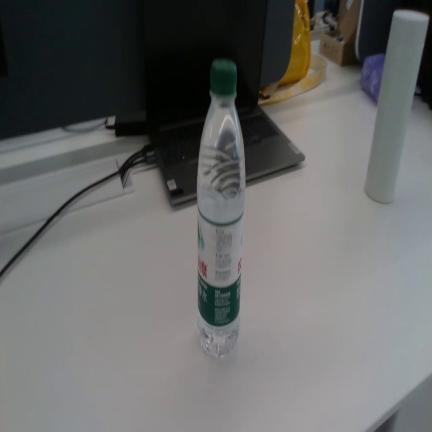bottle: (197, 59, 245, 358)
